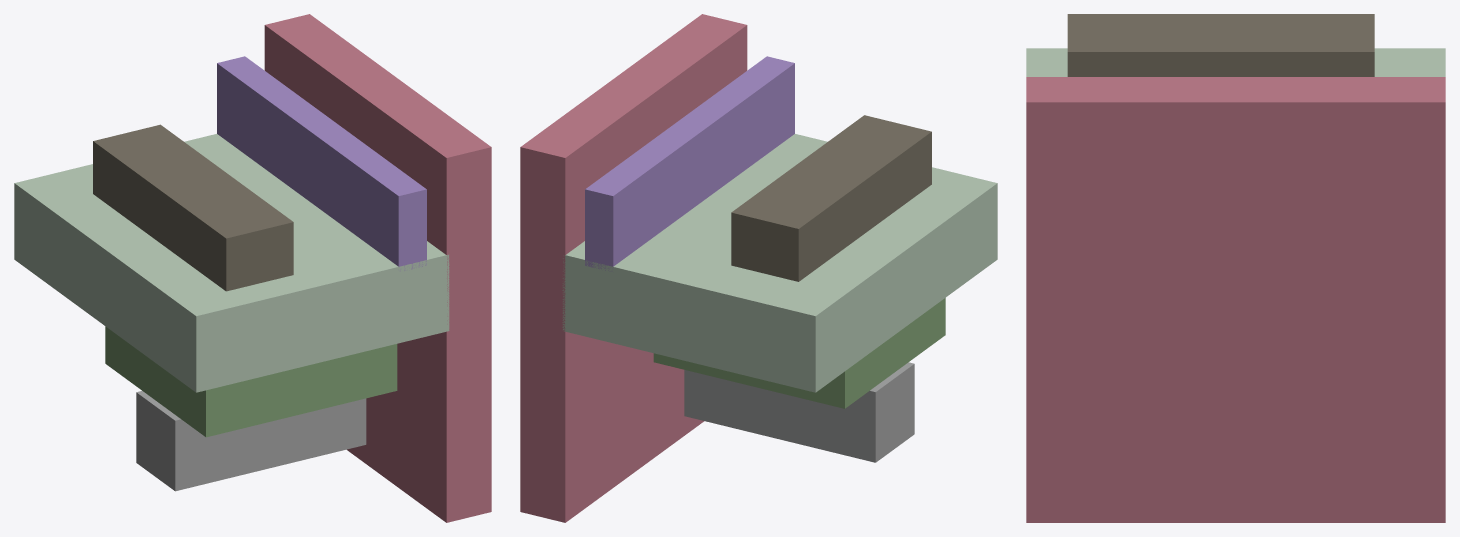
File: 199513_pred.glb
3 renders of one model, left to right at view 1: azimuth 30°, elevation 25°; view 2: azimuth 150°, elevation 25°; view 3: azimuth 270°, elevation 25°, orthographic. The views are drawn at different scales.
Visible parts, largest first — view 1: world; view 2: world; view 3: world.
Boxes of the visible parts, <box> form: world: <box>14,14,491,522</box>; world: <box>520,14,997,522</box>; world: <box>1026,14,1445,522</box>.
Size of the model in its own units: 5.25 by 6.2 by 5.6.
